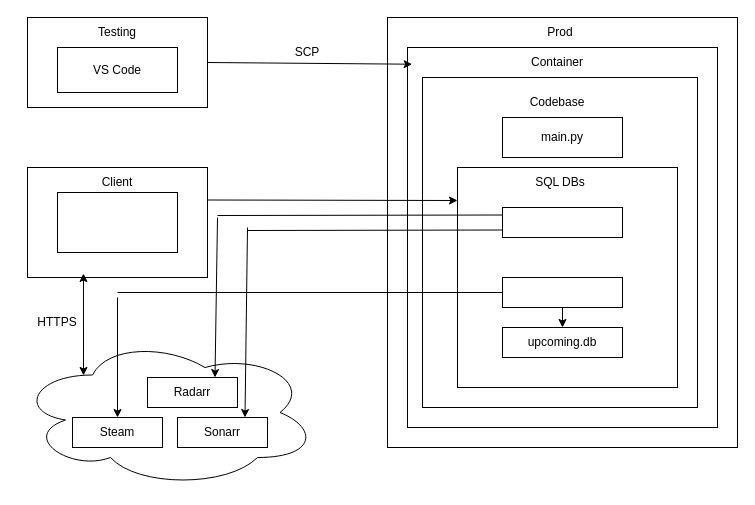
The diagram is 755 pixels wide and 505 high, and some of its shapes have lost their labels. The shapes that lost their labels are listed below. From the top down, each one's centre as x and y in pixels, then its label:
point (117, 222): Discord
point (562, 222): users.db
point (562, 292): games.db
